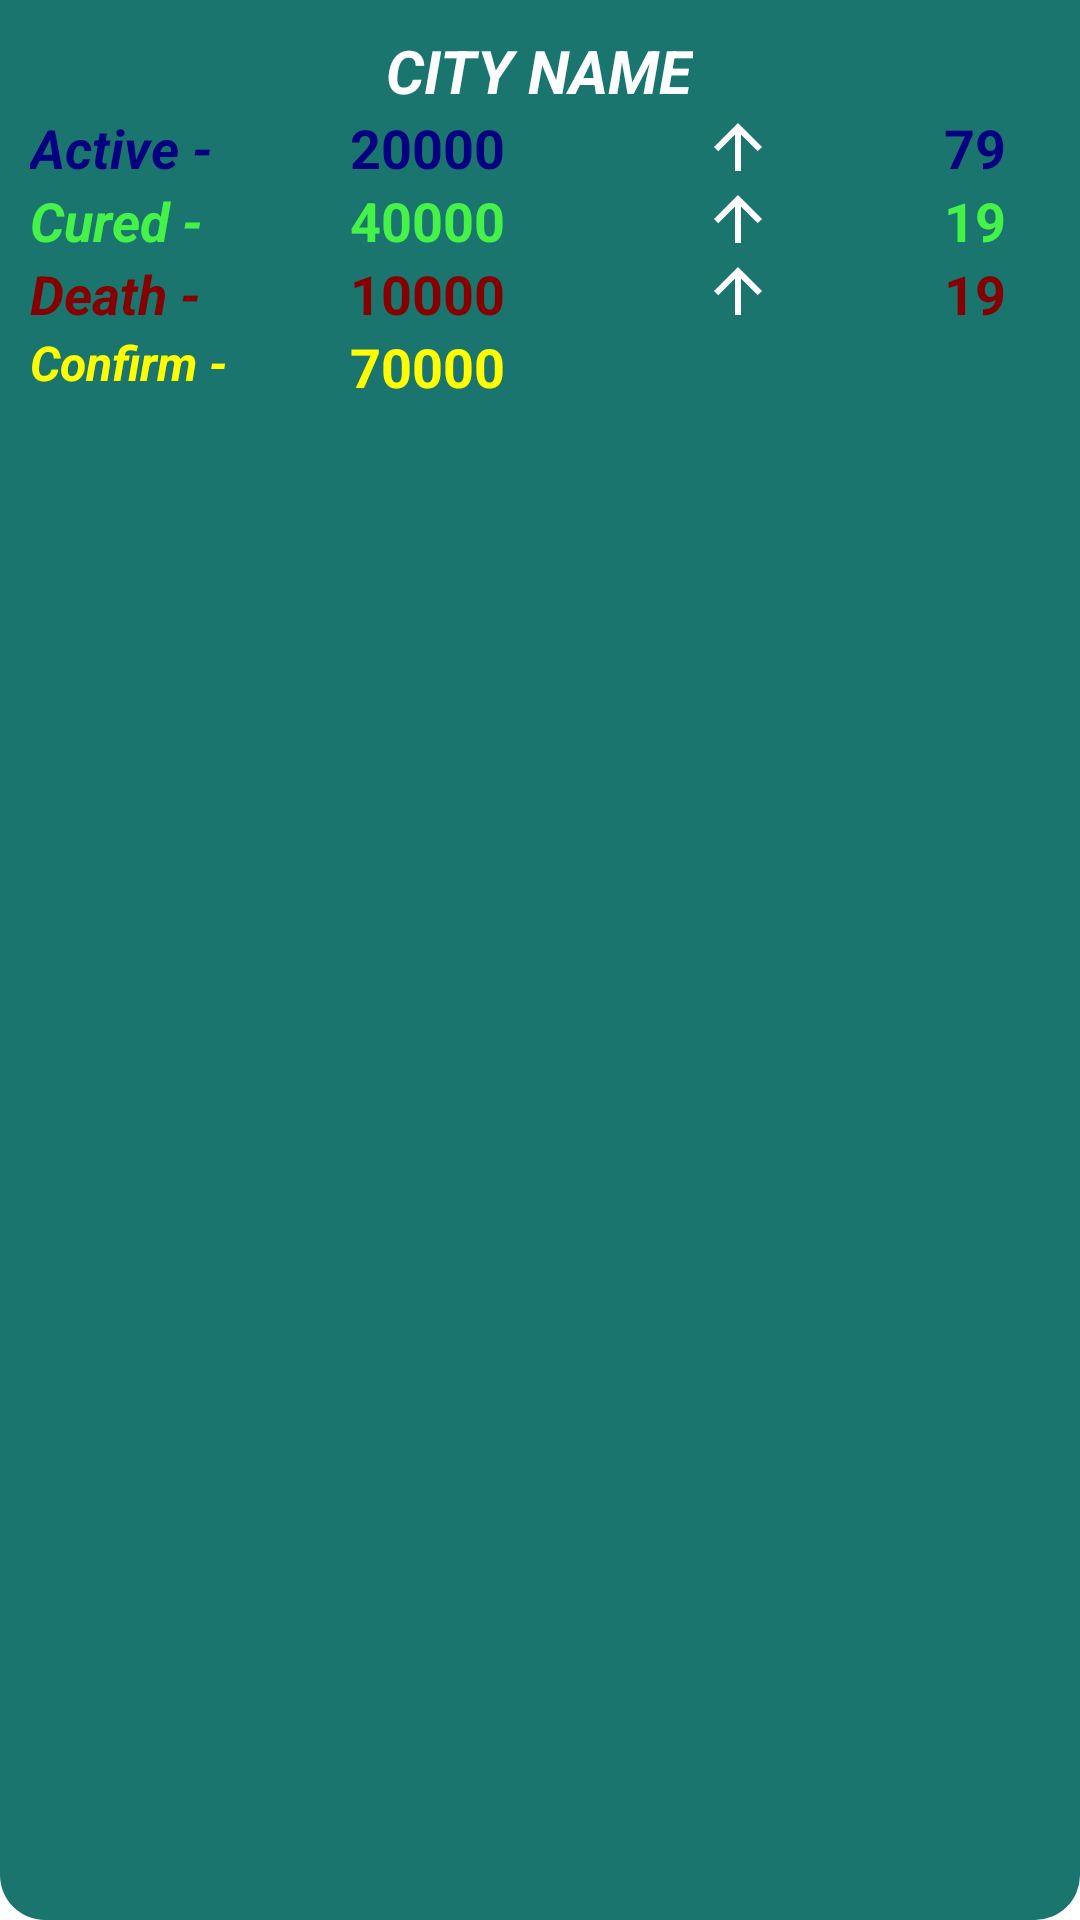

Icon bounding boxes for this 1080×1920 phone screenshot, format [x1,y1,x2,y2]:
upward: [714,123,762,171], [714,195,762,243], [714,267,762,315]
